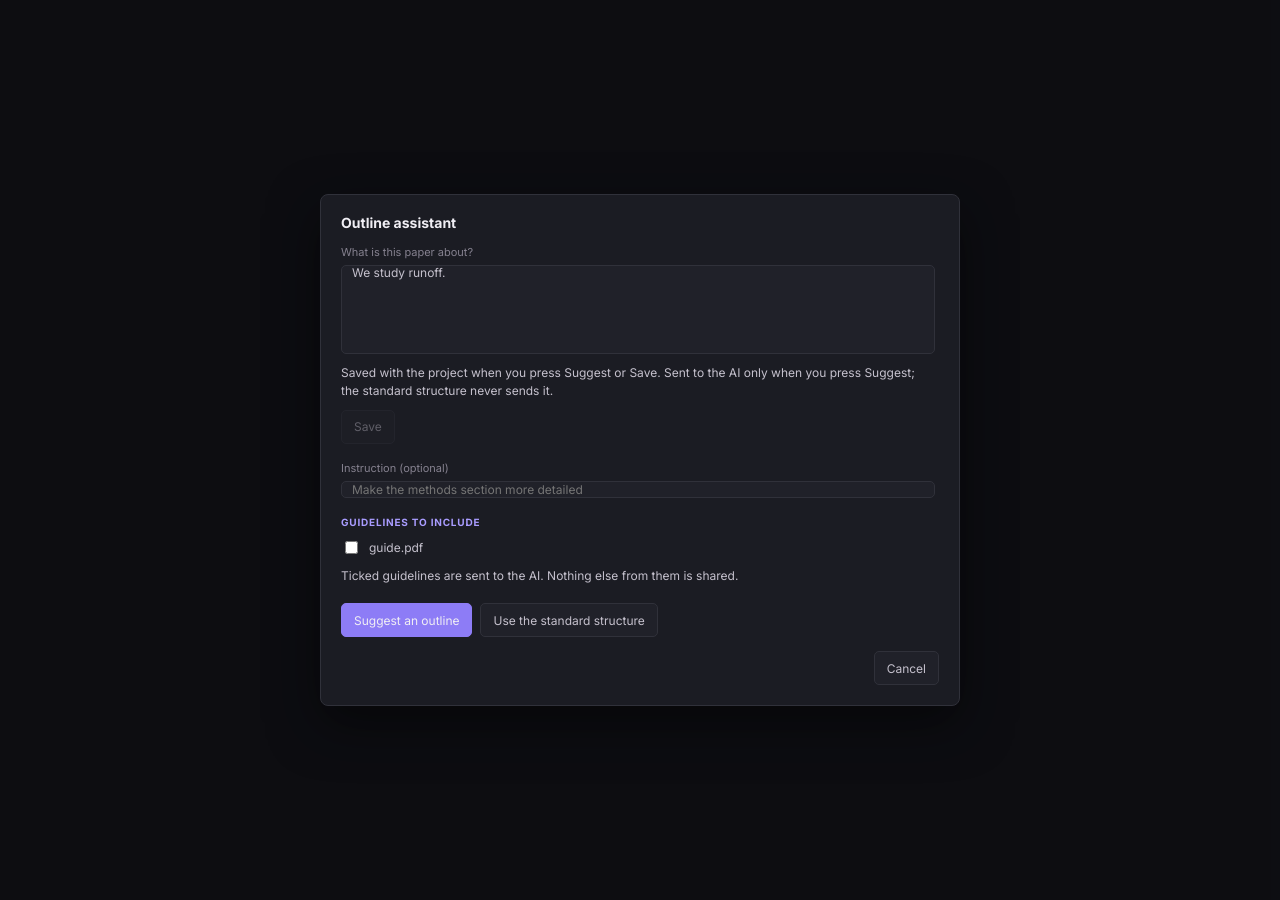
Test: OutlineAssistantDialog › reopens through the remap and summarises the result
Click the button "Suggest an outline".
click(407, 620)  # box [341,603,472,637]
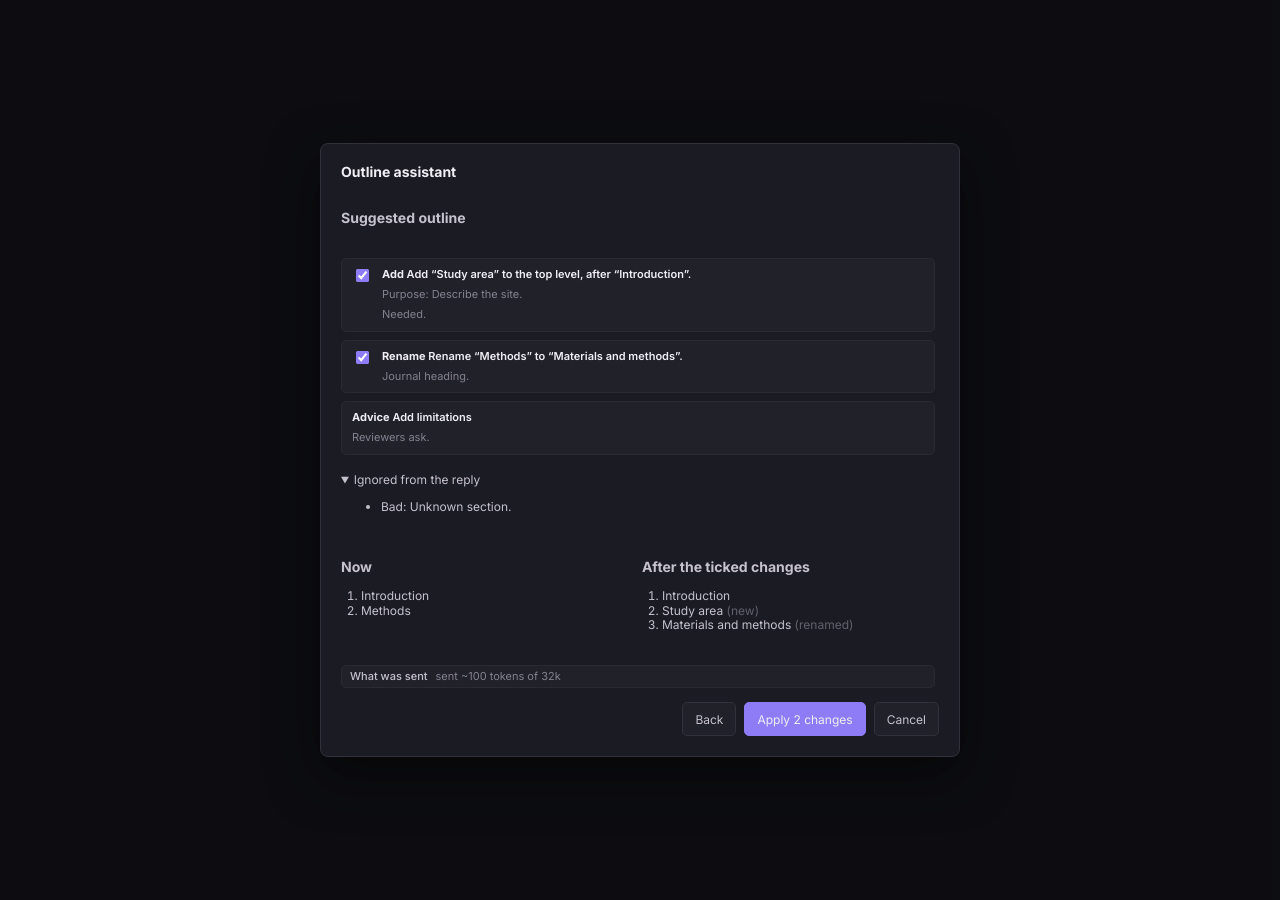
Click the button "Apply 2 changes".
click(805, 719)  # box [744,702,866,736]
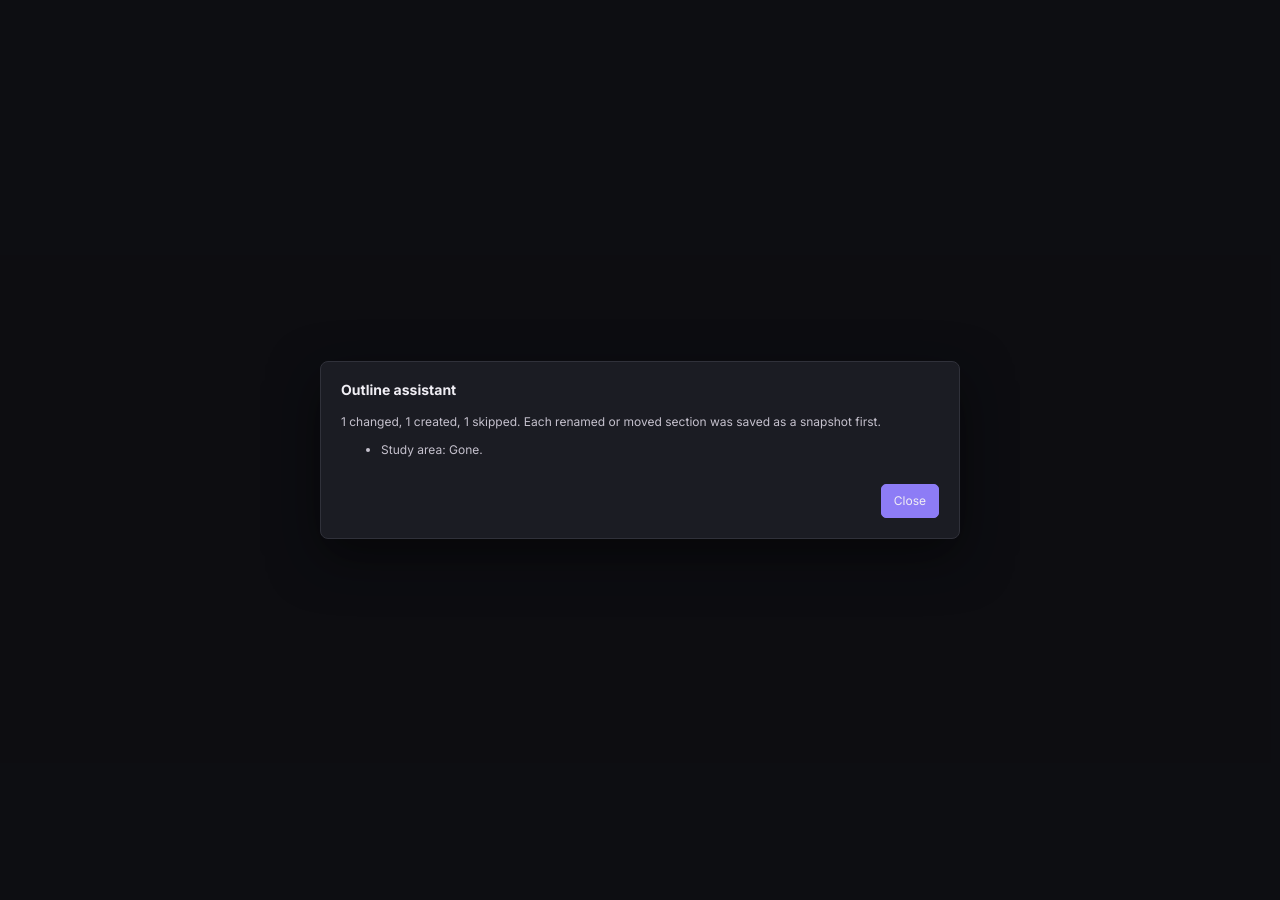
Expected: the text "1 changed, 1 created, 1 skipped" is shown, [341,413,935,431]
Expected: the text "Gone." is shown, [449,442,483,457]
Expected: the text "saved as a snapshot first" is shown, [520,414,881,429]
